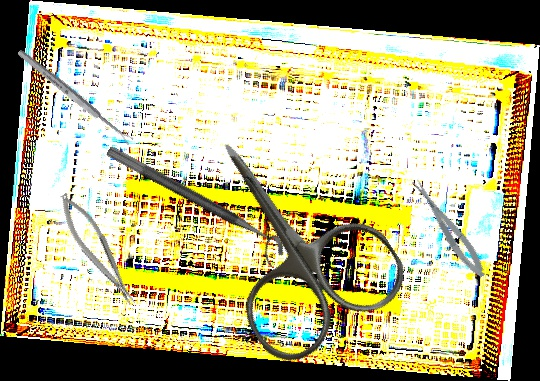Fixation Ring: (97, 144, 290, 269)
Iris Scissors: (159, 97, 417, 375)
Micro Scissor: (408, 173, 491, 283)
Needle Holder: (52, 187, 141, 313)
Surgical Spoon: (15, 47, 135, 147)
